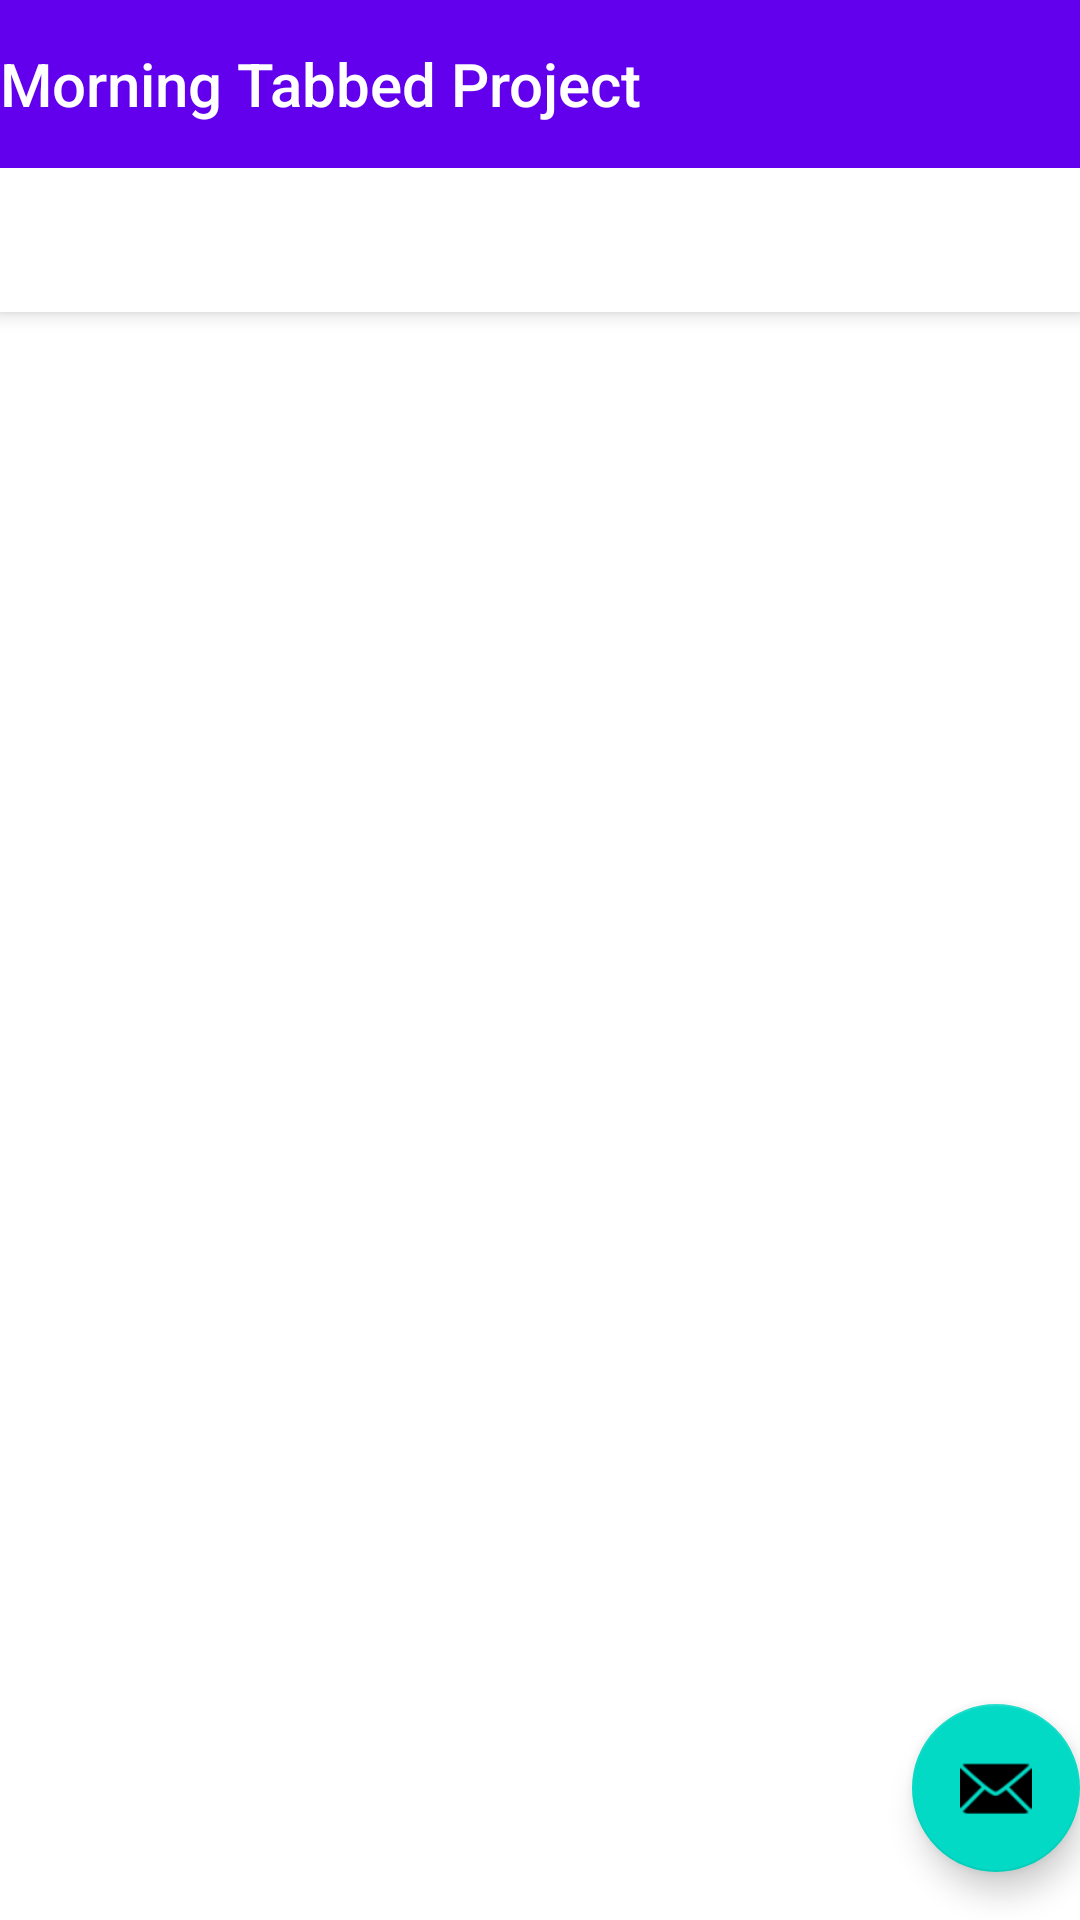

Icon bounding boxes for this 1080w x 1920h phone screenshot, format (left=x1, top=y1, right=x2, bottom=y2):
email: (left=912, top=1704, right=1080, bottom=1872)
